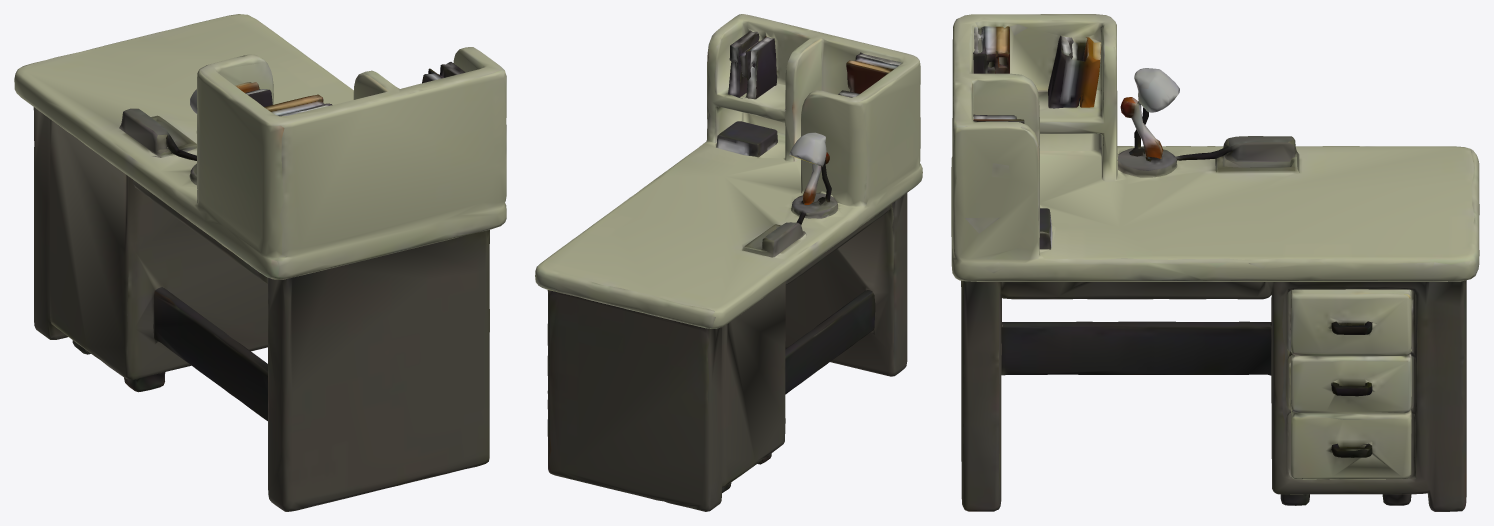
Rendered from reading_table.glb.
3 renders of one model, left to right at view 1: azimuth 30°, elevation 25°; view 2: azimuth 150°, elevation 25°; view 3: azimuth 270°, elevation 25°, orthographic. The views are drawn at different scales.
Parts seen in each view (by area): view 1: geometry_0; view 2: geometry_0; view 3: geometry_0.
Part boxes in pixels (<box>): geometry_0: <box>14,14,506,511</box>; geometry_0: <box>535,14,922,511</box>; geometry_0: <box>951,14,1479,511</box>.
Bounding box in the file's own units: 0.5283 × 0.8252 × 1.
1 material, 1 textured.
